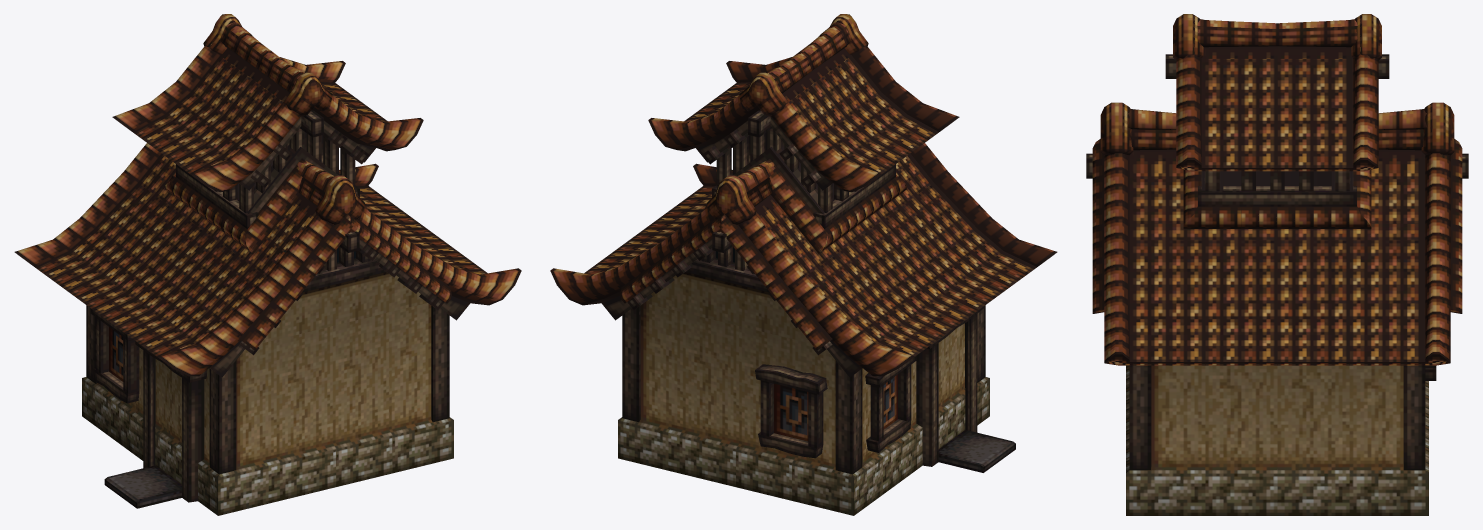
The model's file is EnvBdgMD_Desert_A_Outdoor_House_B.FBX.
3 views of the same model, side by side, from view 1: azimuth 30°, elevation 25°; view 2: azimuth 150°, elevation 25°; view 3: azimuth 270°, elevation 25° (orthographic). The views are drawn at different scales.
Parts seen in each view (by area): view 1: EnvBdgMD_Desert_A_Outdoor_House_B; view 2: EnvBdgMD_Desert_A_Outdoor_House_B; view 3: EnvBdgMD_Desert_A_Outdoor_House_B.
Part boxes in pixels (x1,y1,x2,y2): EnvBdgMD_Desert_A_Outdoor_House_B: (14,14,521,515); EnvBdgMD_Desert_A_Outdoor_House_B: (550,14,1057,515); EnvBdgMD_Desert_A_Outdoor_House_B: (1086,14,1468,515).
Bounding box in the file's own units: 644 × 667 × 530.
